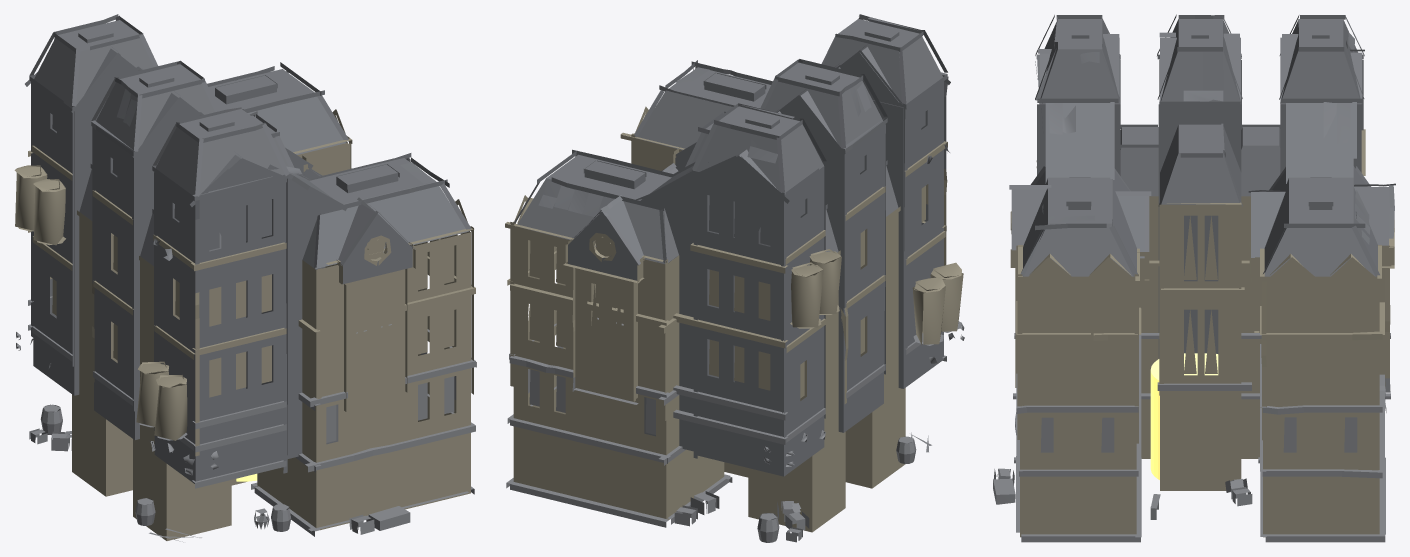
The model's file is propaganda_centre.glb.
3 renders of one model, left to right at view 1: azimuth 30°, elevation 25°; view 2: azimuth 150°, elevation 25°; view 3: azimuth 270°, elevation 25°, orthographic.
Parts seen in each view (by area): view 1: propaganda_centre_Building; view 2: propaganda_centre_Building; view 3: propaganda_centre_Building.
Part boxes in pixels (x1,y1,x2,y2): propaganda_centre_Building: (14, 14, 476, 542); propaganda_centre_Building: (505, 14, 964, 542); propaganda_centre_Building: (993, 14, 1395, 542).
Bounding box in the file's own units: 14.37 × 18.92 × 16.55.
